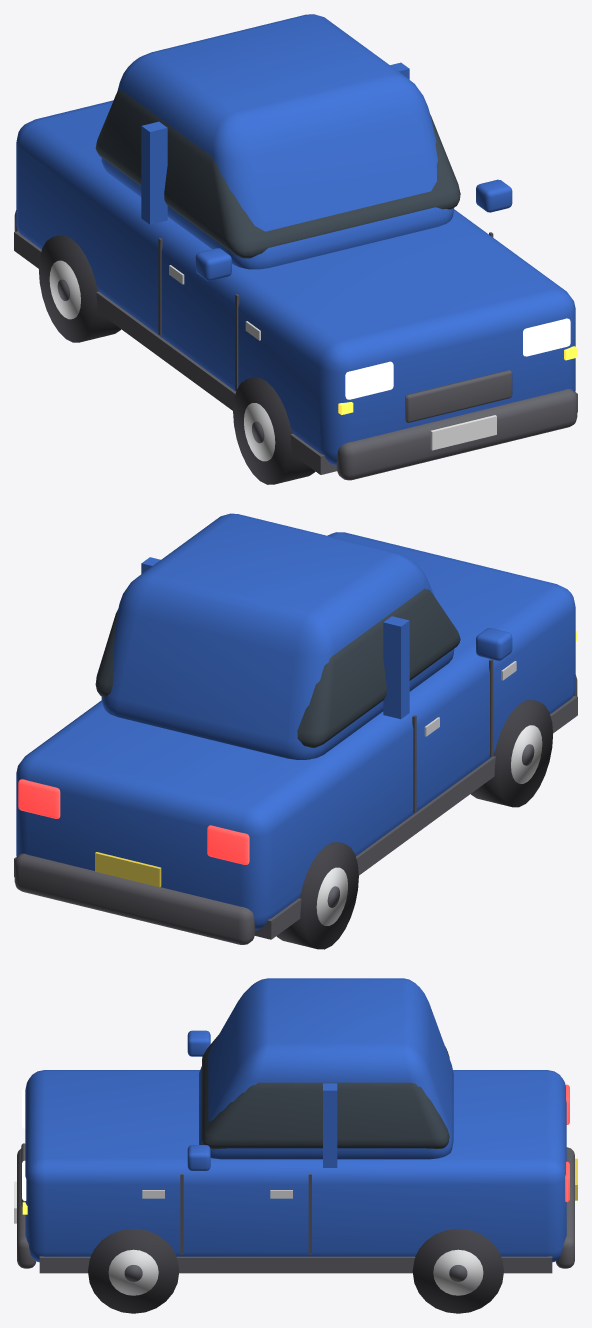
File: sedan.glb
3 views of the same model, one above another, from view 1: azimuth 30°, elevation 25°; view 2: azimuth 150°, elevation 25°; view 3: azimuth 270°, elevation 25° (orthographic). The views are drawn at different scales.
Parts seen in each view (by area): view 1: sedan; view 2: sedan; view 3: sedan.
Part boxes in pixels (x1=…): sedan: x1=14, y1=14, x2=577, y2=484; sedan: x1=14, y1=513, x2=577, y2=949; sedan: x1=14, y1=978, x2=577, y2=1313.
Size of the model in its own units: 1.04 by 0.96 by 1.98.
